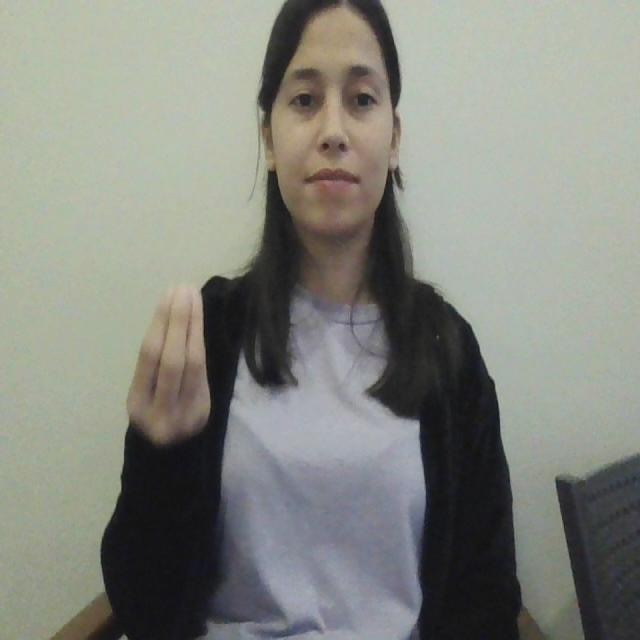iyi: (116, 278, 226, 456)
